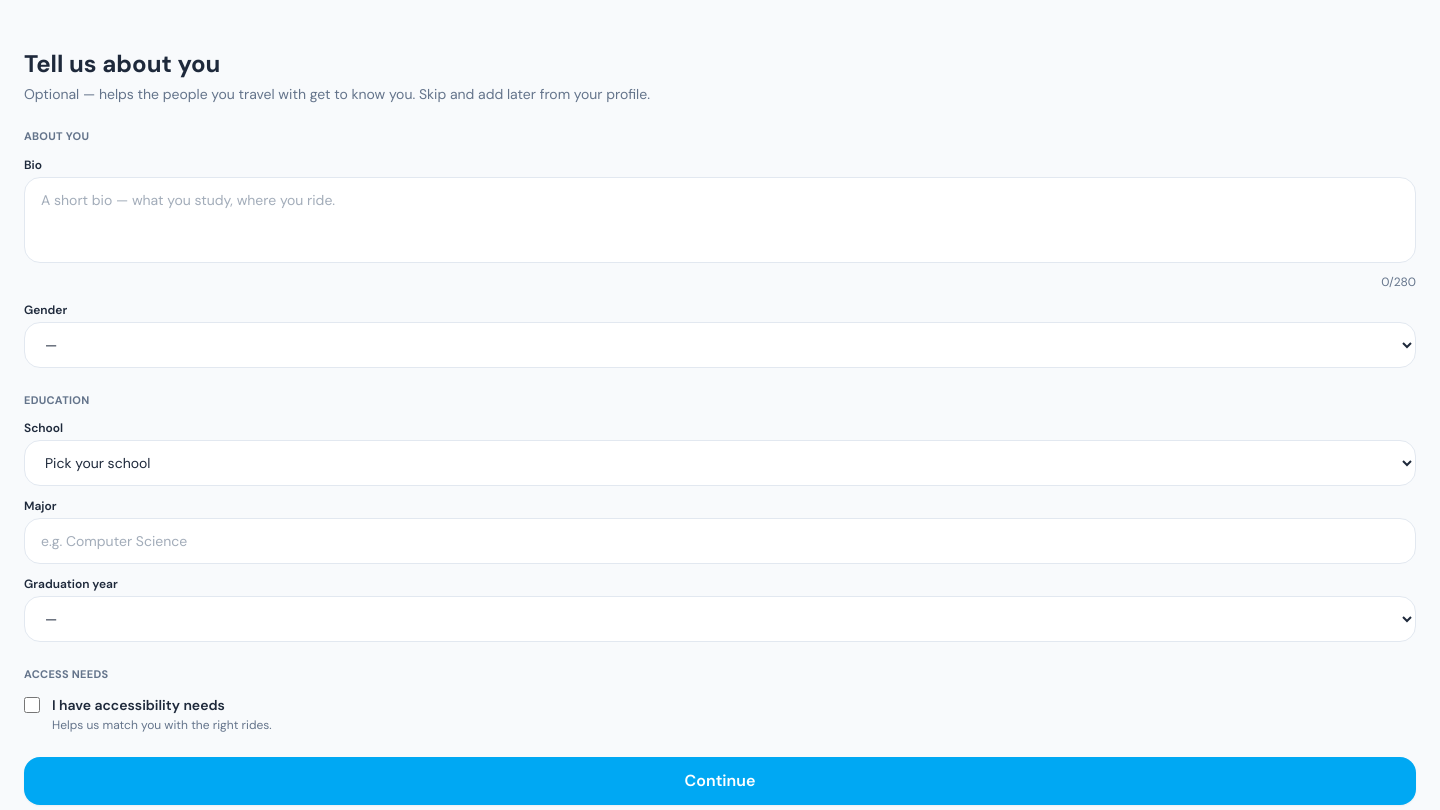
Test: AboutYouPage › hides access-needs sub-rows until the top toggle is on
Step 1. Click the checkbox with test id "about-you-has-access" → (32, 704), box [24,696,40,712]
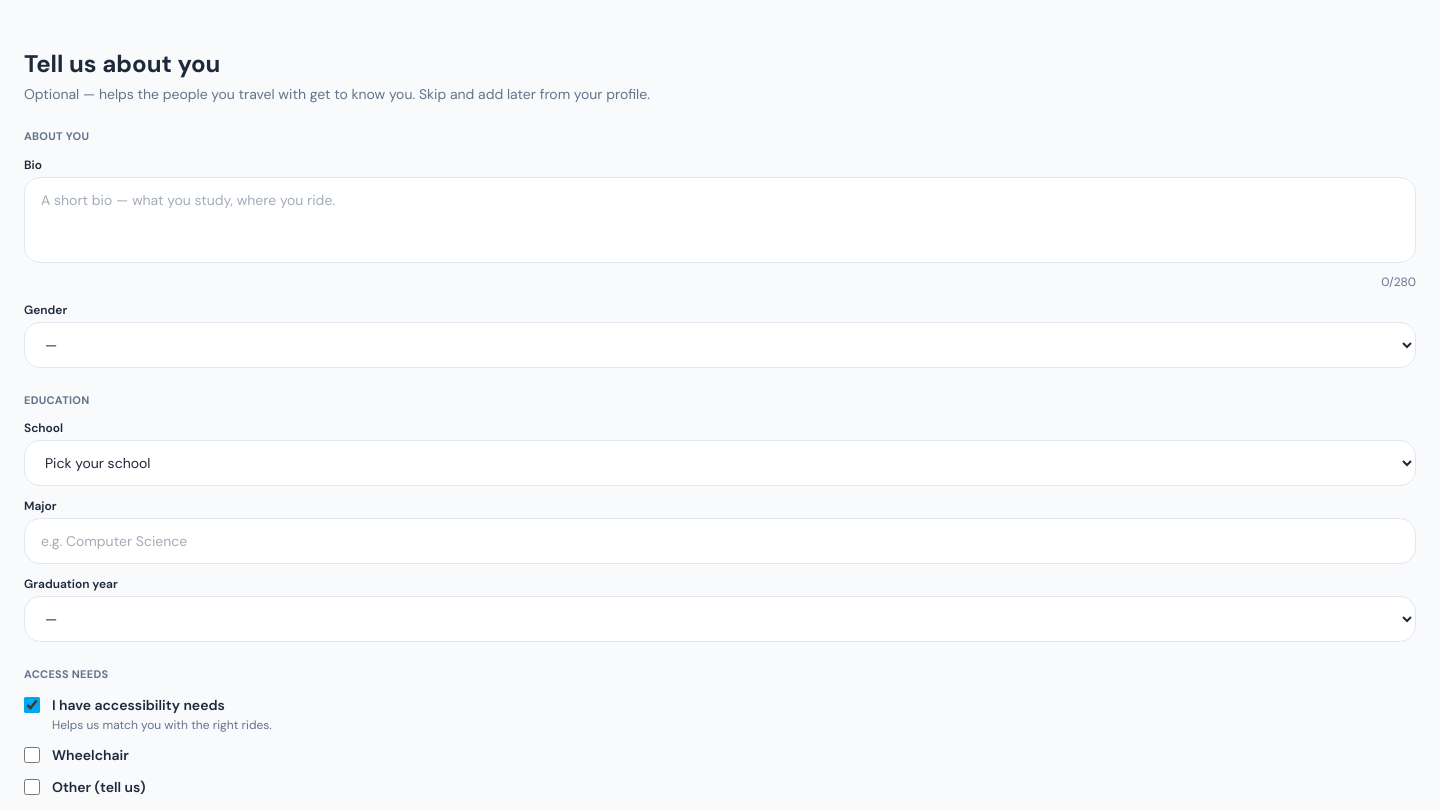
Now the checkbox with test id "about-you-needs-wheelchair" is shown, box [24,746,40,762]
Now the checkbox with test id "about-you-needs-other" is shown, box [24,778,40,794]
